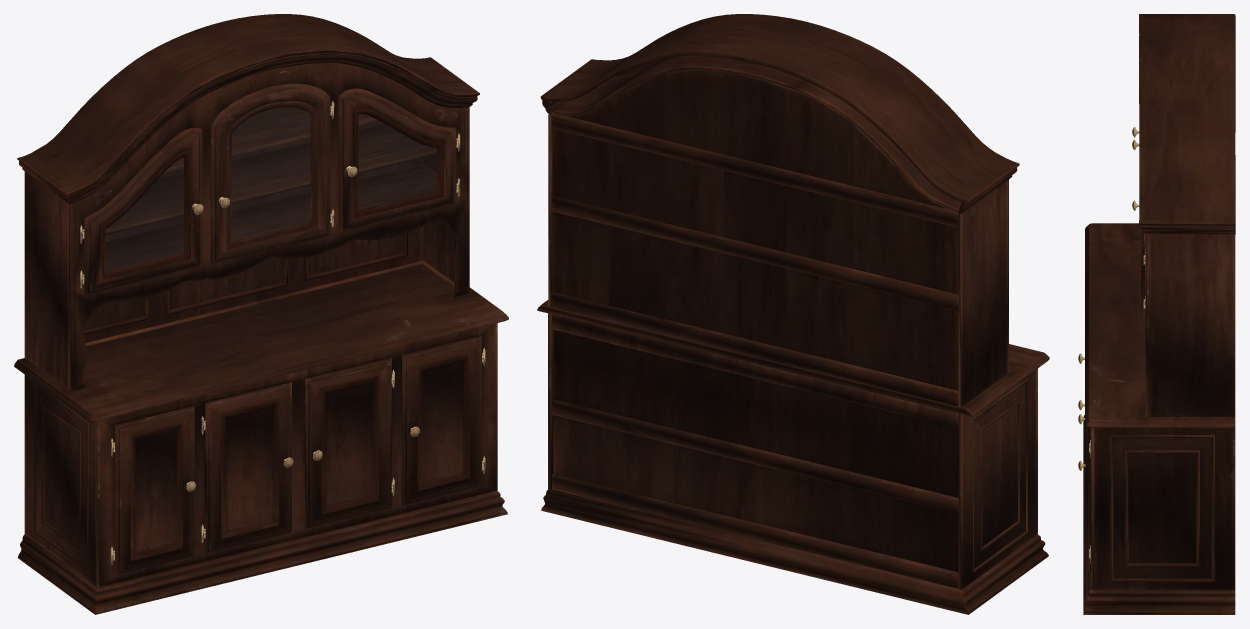
The model's file is vintage_cabinet_01.glb.
3 views of the same model, side by side, from view 1: azimuth 30°, elevation 25°; view 2: azimuth 150°, elevation 25°; view 3: azimuth 270°, elevation 25° (orthographic). The views are drawn at different scales.
Parts seen in each view (by area): view 1: vintage_cabinet_01_body, vintage_cabinet_01_door_01; view 2: vintage_cabinet_01_body; view 3: vintage_cabinet_01_body.
Boxes of the visible parts, x1,y1,x2,y2 form: vintage_cabinet_01_body: [14, 14, 508, 614]; vintage_cabinet_01_door_01: [106, 107, 436, 271]; vintage_cabinet_01_body: [537, 14, 1049, 614]; vintage_cabinet_01_body: [1078, 14, 1235, 614].
Size of the model in its own units: 2.02 by 2.23 by 0.6697.
Materials: 3 (2 with a texture image).
